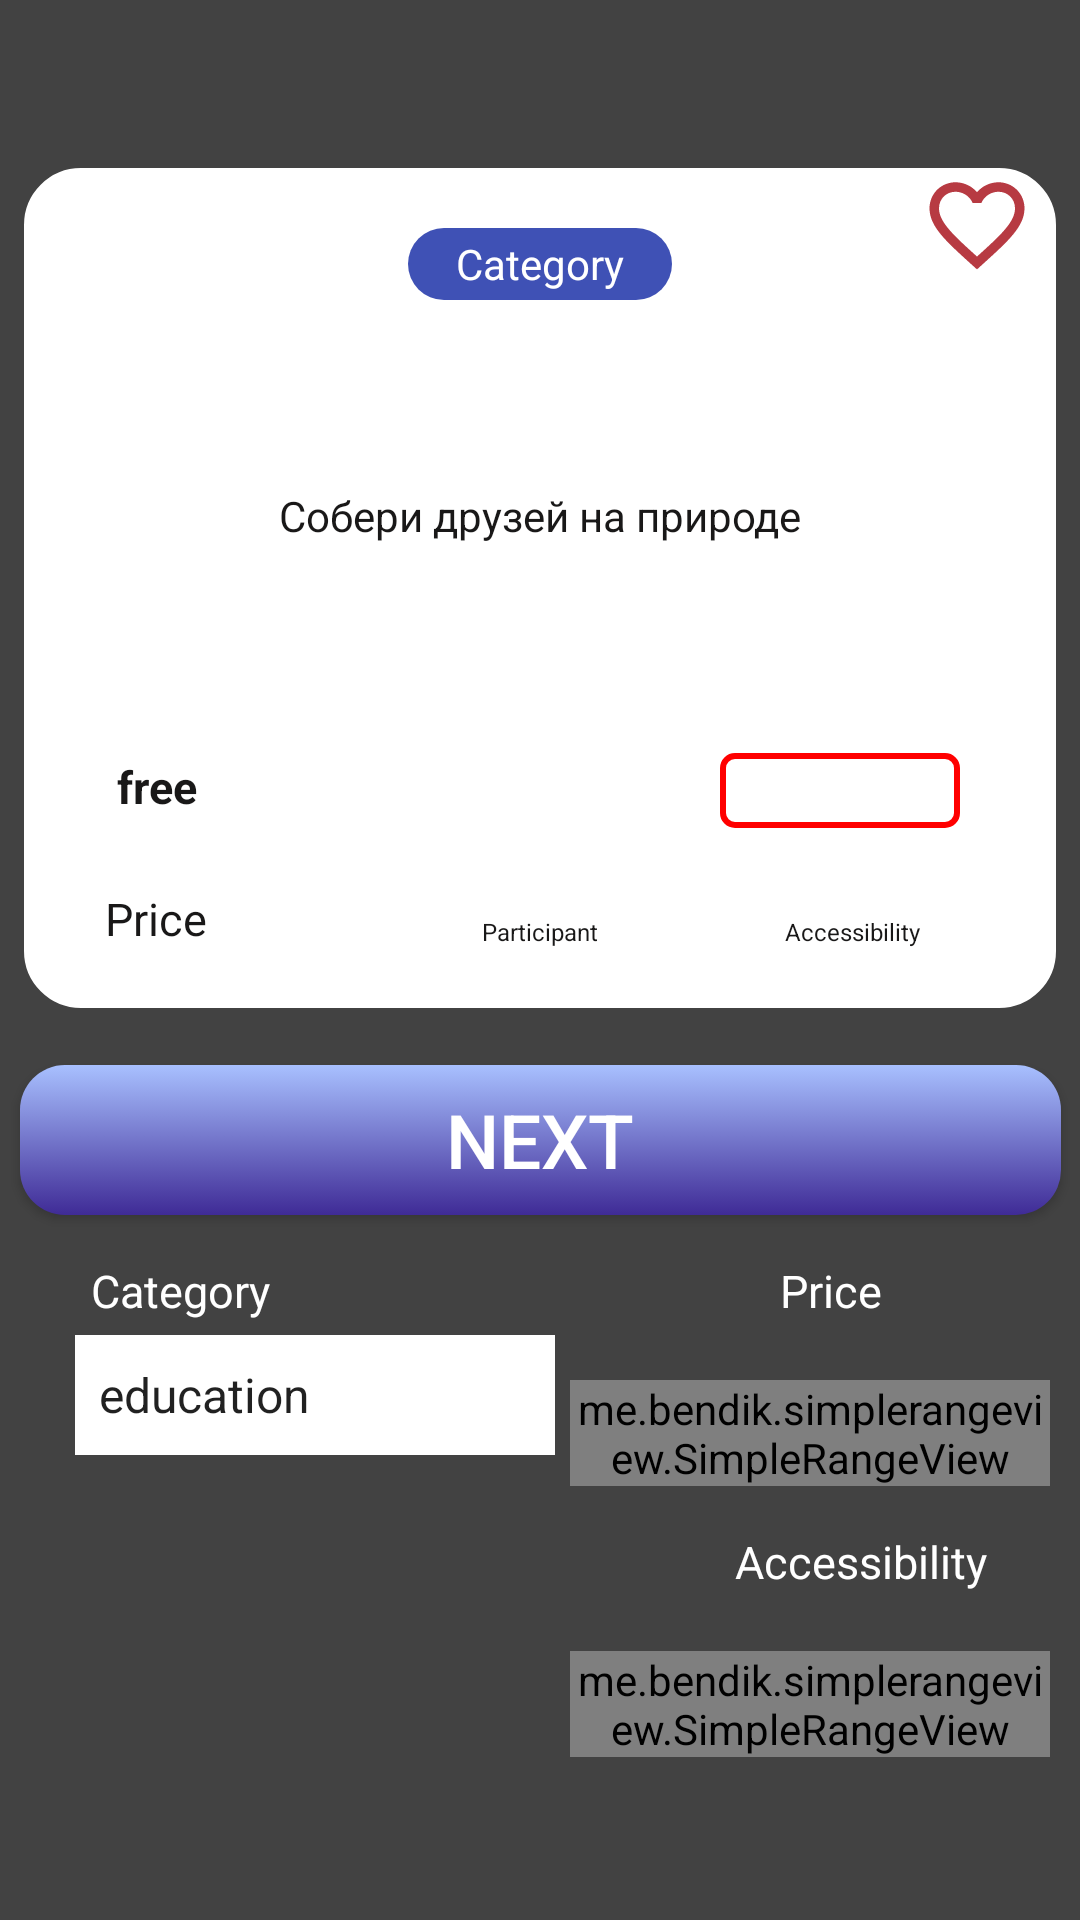

Icon click points for this 1080w x 1920h phone screenshot, format (x,y):
favorite: (976,225)
